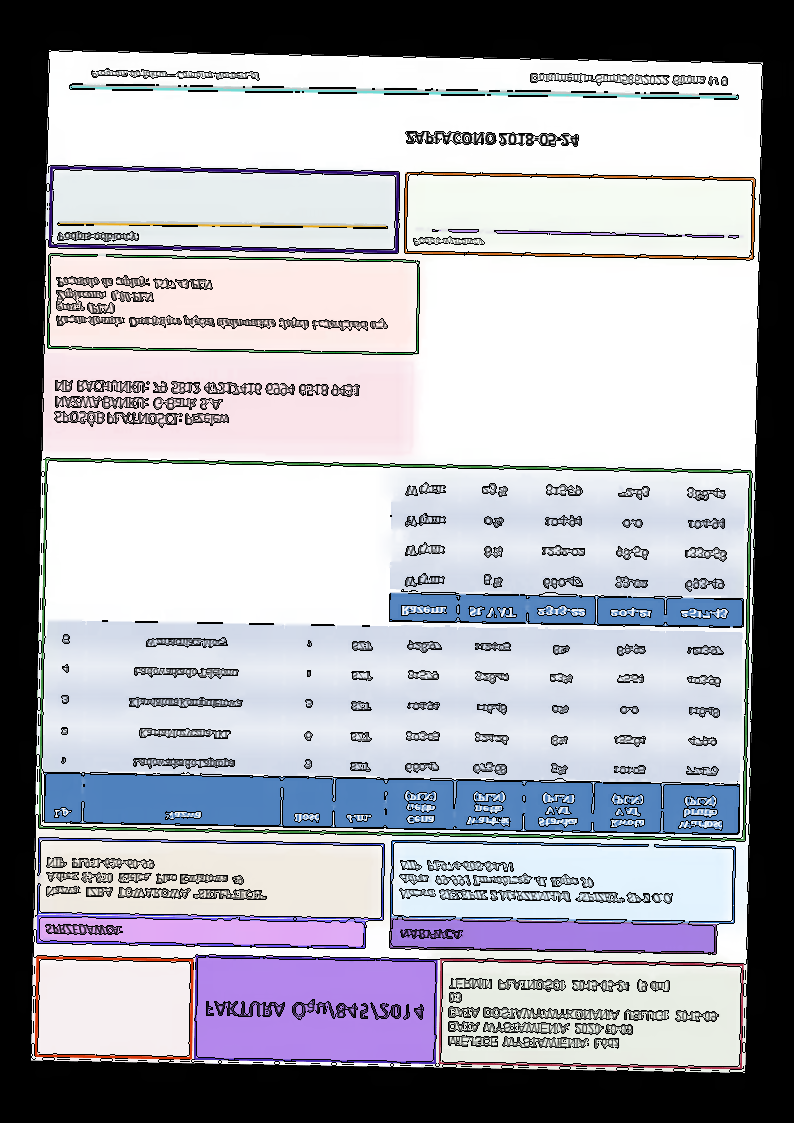Table: (42, 621, 741, 838), (388, 468, 747, 630)
TextBox: (444, 973, 724, 1056), (53, 274, 391, 336), (52, 374, 364, 434), (397, 859, 676, 908), (43, 853, 269, 905), (202, 994, 426, 1026), (404, 127, 582, 151), (527, 71, 728, 91), (89, 67, 260, 84), (55, 228, 143, 246), (44, 920, 124, 939), (411, 233, 486, 253), (396, 925, 467, 944)
